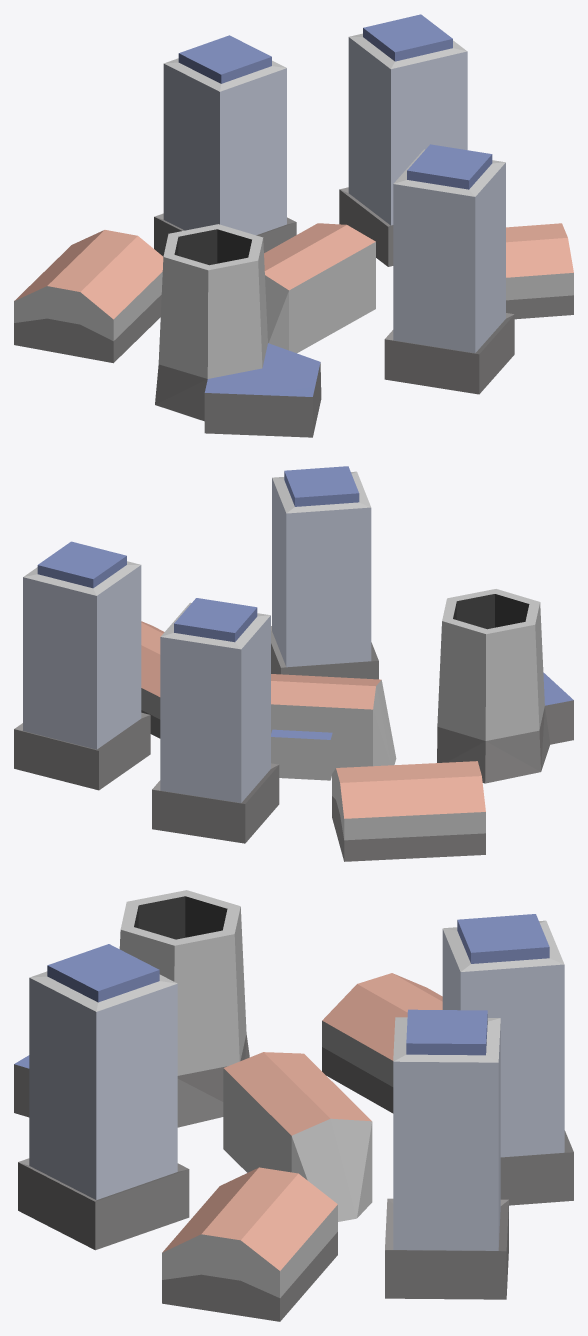
The model's file is beta01_10.dae.
3 renders of one model, top to bottom at view 1: azimuth 30°, elevation 25°; view 2: azimuth 150°, elevation 25°; view 3: azimuth 270°, elevation 25°, orthographic. The views are drawn at different scales.
Visible parts, largest first — view 1: Cube; view 2: Cube; view 3: Cube.
Boxes of the visible parts, <box> form: Cube: <box>14,14,573,437</box>; Cube: <box>14,466,573,861</box>; Cube: <box>14,890,573,1321</box>.
Bounding box in the file's own units: 1.92 × 1.61 × 0.7955.
